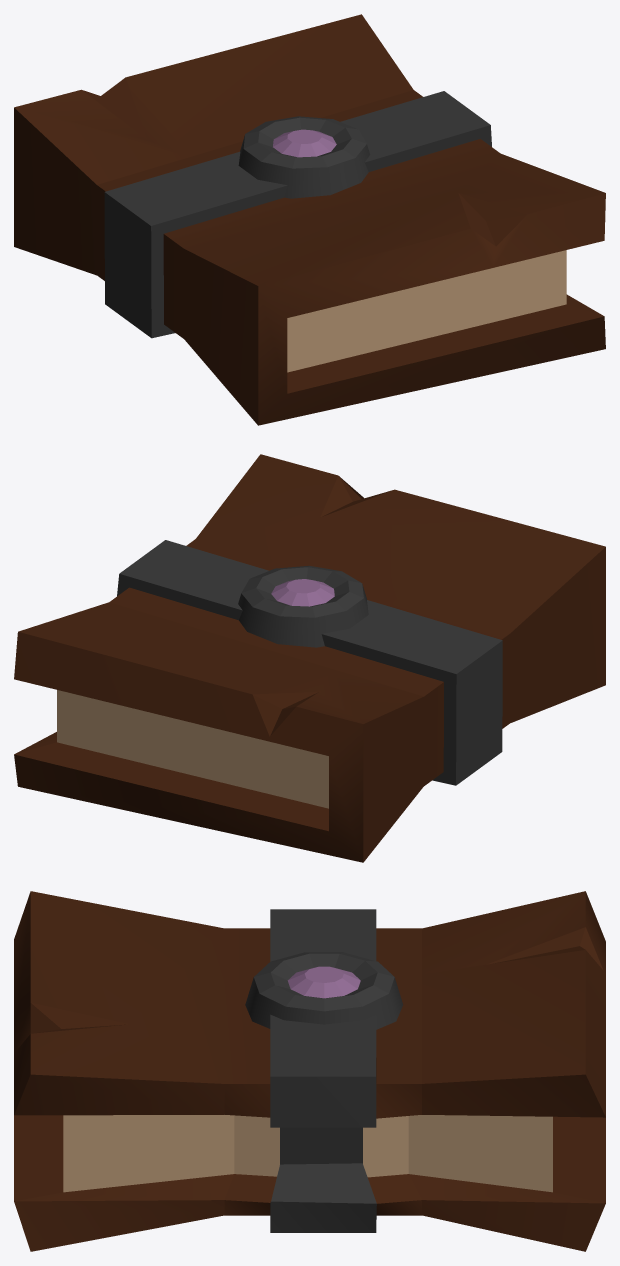
Rendered from Book1.fbx.
3 renders of one model, top to bottom at view 1: azimuth 30°, elevation 25°; view 2: azimuth 150°, elevation 25°; view 3: azimuth 270°, elevation 25°, orthographic. The views are drawn at different scales.
Parts seen in each view (by area): view 1: Box001; view 2: Box001; view 3: Box001.
Boxes of the visible parts, box(x1,y1,x2,y2) form: Box001: box(14, 14, 605, 425); Box001: box(14, 454, 605, 862); Box001: box(14, 891, 605, 1251).
Size of the model in its own units: 11.66 by 15.06 by 5.09.
